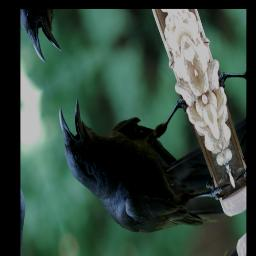Crow: (50, 33, 239, 256)
